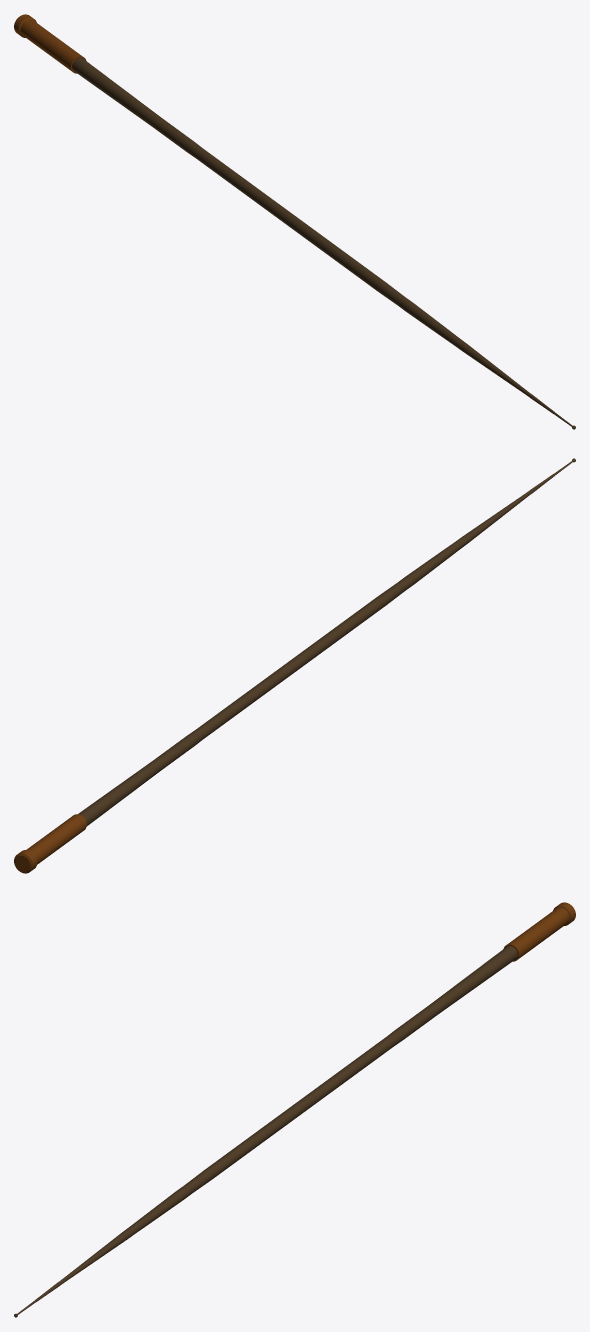
Rendered from Laqueus.fbx.
The picture shows the model from 3 angles, top to bottom: view 1: azimuth 30°, elevation 25°; view 2: azimuth 150°, elevation 25°; view 3: azimuth 330°, elevation 25°; orthographic projection.
Parts seen in each view (by area): view 1: Laqueus; view 2: Laqueus; view 3: Laqueus.
Part boxes in pixels (<box>): Laqueus: <box>14,14,575,429</box>; Laqueus: <box>14,458,575,873</box>; Laqueus: <box>14,902,575,1317</box>.
Size of the model in its own units: 34.78 by 34.78 by 1760.
